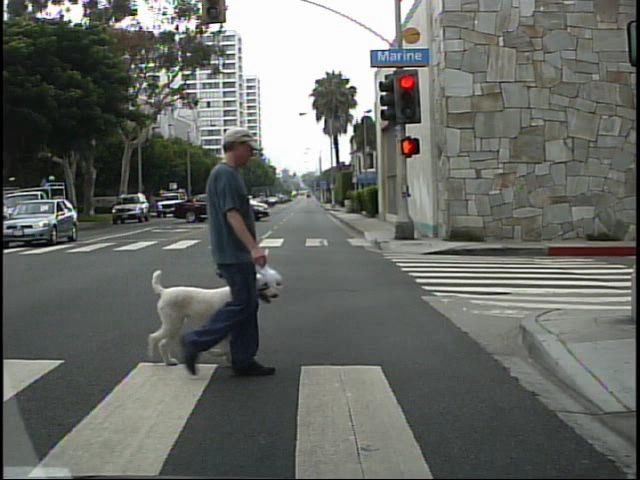person: (153, 119, 294, 386)
